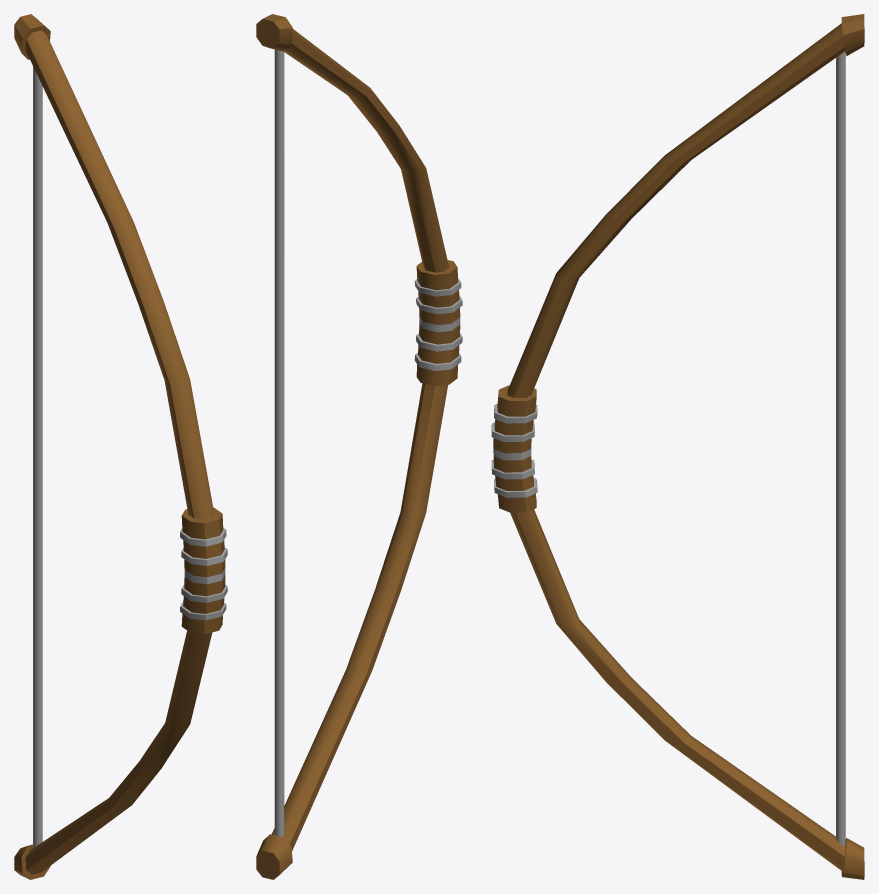
File: Bow_1.fbx
The picture shows the model from 3 angles, left to right: view 1: azimuth 30°, elevation 25°; view 2: azimuth 150°, elevation 25°; view 3: azimuth 270°, elevation 25°; orthographic projection.
Visible parts, largest first — view 1: Bow_1; view 2: Bow_1; view 3: Bow_1.
Boxes of the visible parts, x1=… form: Bow_1: x1=14, y1=14, x2=227, y2=879; Bow_1: x1=256, y1=14, x2=462, y2=879; Bow_1: x1=491, y1=14, x2=864, y2=879.
Size of the model in its own units: 0.0155 by 0.3442 by 0.1352.
